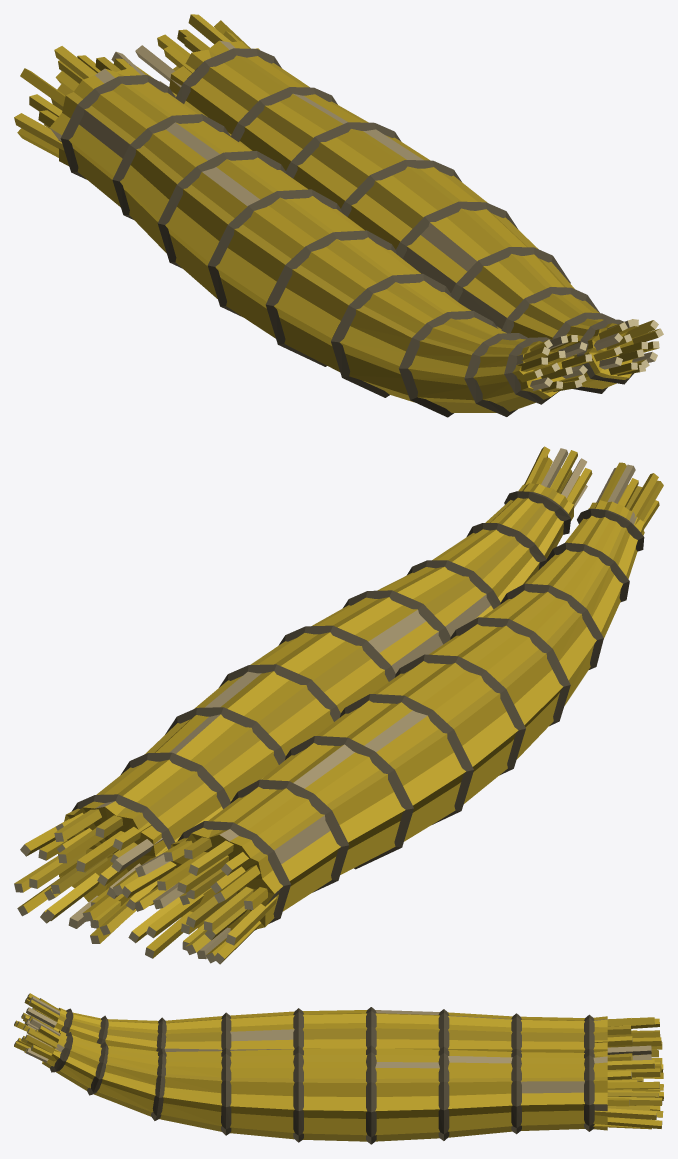
File: pora-reed-float-ed9d7e.glb
The picture shows the model from 3 angles, top to bottom: view 1: azimuth 30°, elevation 25°; view 2: azimuth 150°, elevation 25°; view 3: azimuth 270°, elevation 25°; orthographic projection. The views are drawn at different scales.
Parts seen in each view (by area): view 1: float; view 2: float; view 3: float.
Part boxes in pixels (box(x1,y1,x2,y2)): float: box(14, 14, 663, 417); float: box(14, 446, 663, 964); float: box(14, 993, 663, 1144).
Bounding box in the file's own units: 0.782 × 0.4822 × 2.5.
